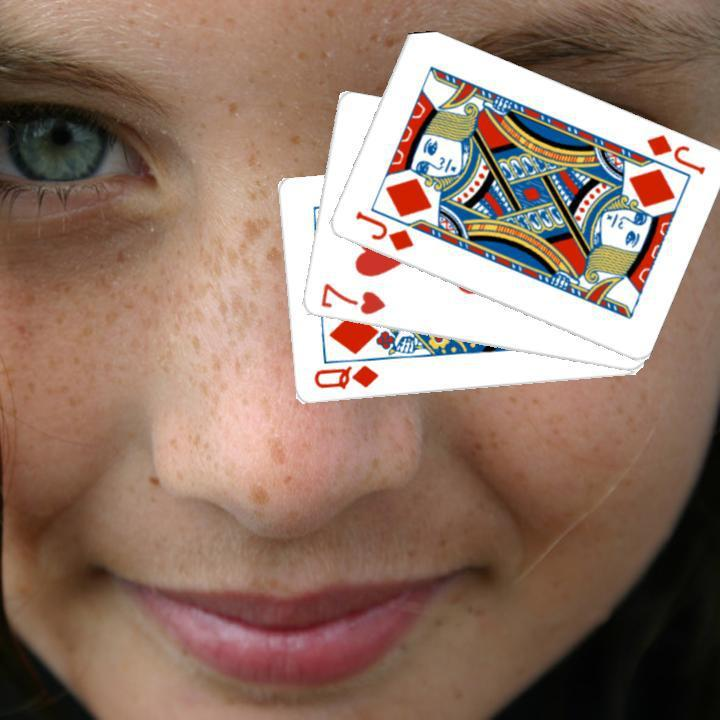7: (315, 279, 387, 317)
J: (350, 206, 415, 254), (641, 130, 707, 177)
Q: (309, 361, 380, 392)
